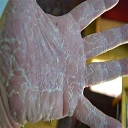Pityriasis Rubra Pilaris: (8, 13, 90, 108)
